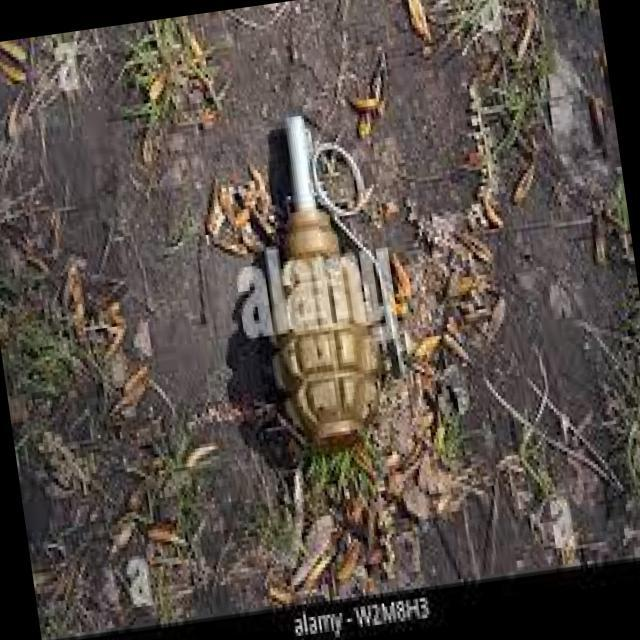grenade: (215, 102, 405, 470)
